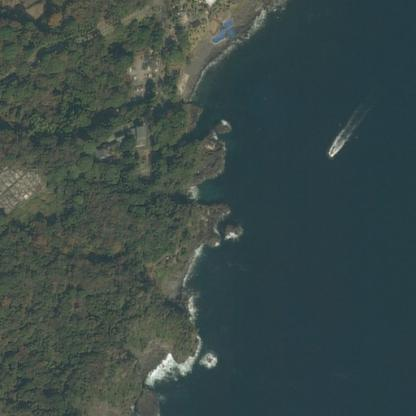ship: (323, 132, 348, 160)
